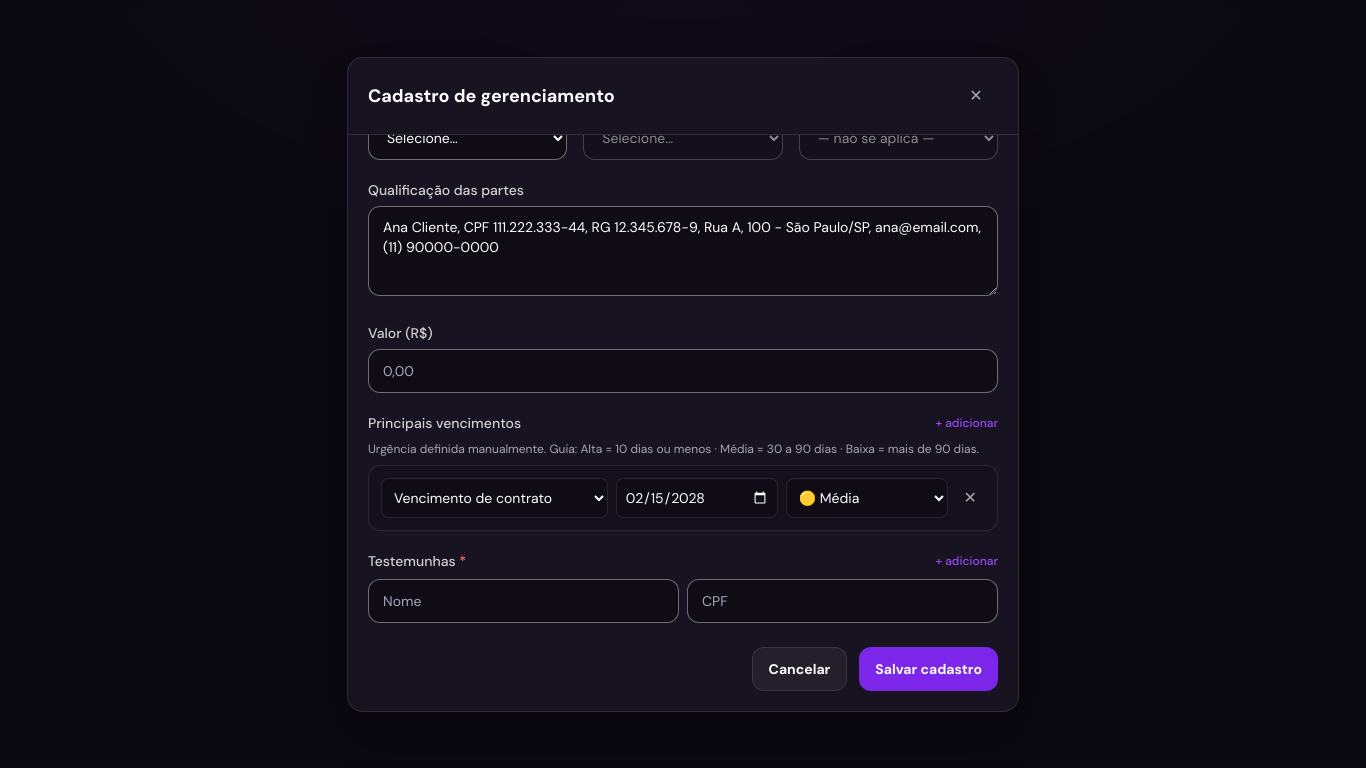
Test case: cadastro de gerenciamento (Issue #11) › bloqueia o cadastro sem testemunha e exibe erro
(page scrolled)
Click the button "Salvar cadastro": x=929, y=668 [859, 646, 998, 690]
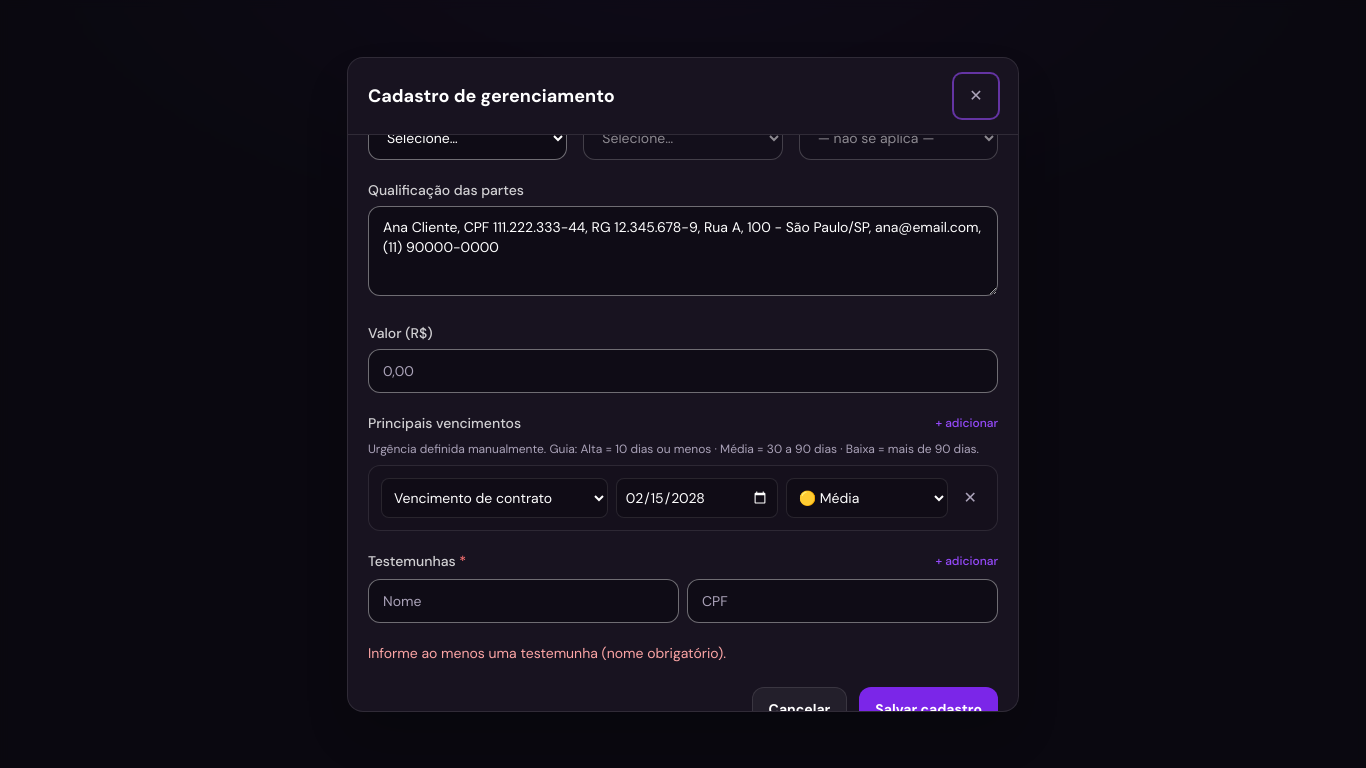
expect the message shows "testemunha": met, box [368, 644, 726, 662]
